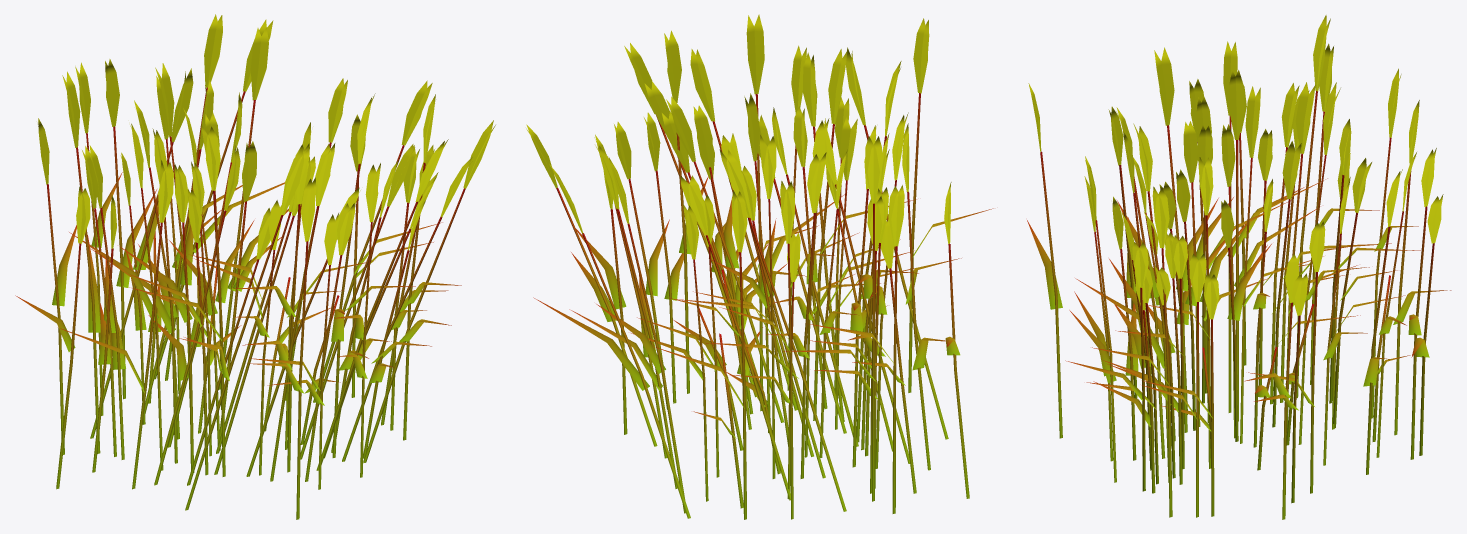
The model's file is arundo.glb.
The picture shows the model from 3 angles, left to right: view 1: azimuth 30°, elevation 25°; view 2: azimuth 150°, elevation 25°; view 3: azimuth 270°, elevation 25°; orthographic projection. The views are drawn at different scales.
Parts seen in each view (by area): view 1: v0, v1, v3, v2; view 2: v0, v1, v3, v2; view 3: v0, v1, v3, v2.
Part boxes in pixels (x1=…): v0: x1=38, y1=59, x2=461, y2=519; v1: x1=90, y1=19, x2=495, y2=510; v3: x1=15, y1=14, x2=448, y2=489; v2: x1=69, y1=62, x2=380, y2=489; v0: x1=576, y1=14, x2=993, y2=519; v1: x1=526, y1=43, x2=961, y2=518; v3: x1=569, y1=52, x2=969, y2=513; v2: x1=631, y1=45, x2=914, y2=519; v0: x1=1027, y1=15, x2=1451, y2=519; v1: x1=1065, y1=106, x2=1443, y2=503; v3: x1=1093, y1=79, x2=1436, y2=516; v2: x1=1069, y1=41, x2=1418, y2=482.
Size of the model in its own units: 10.66 by 9.15 by 9.46.
